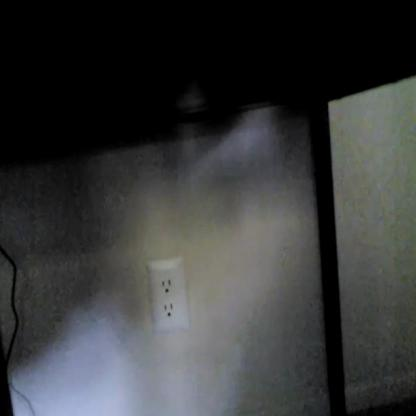OUTLET: (146, 257, 190, 335)
